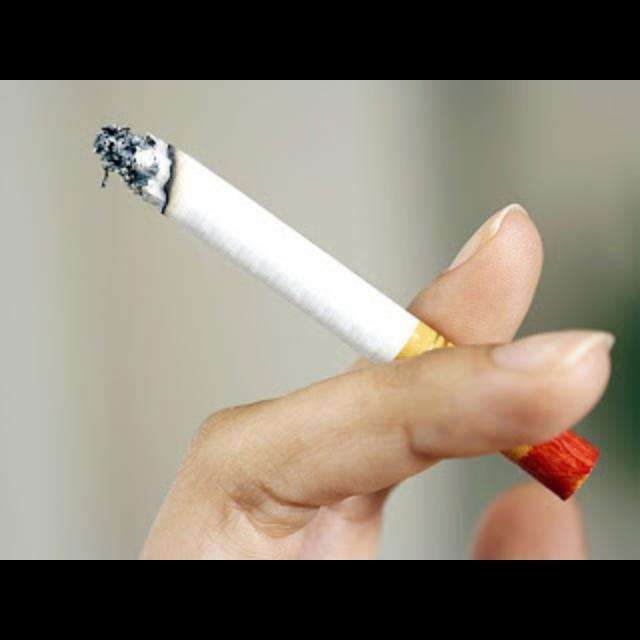rokok: (54, 90, 506, 410)
